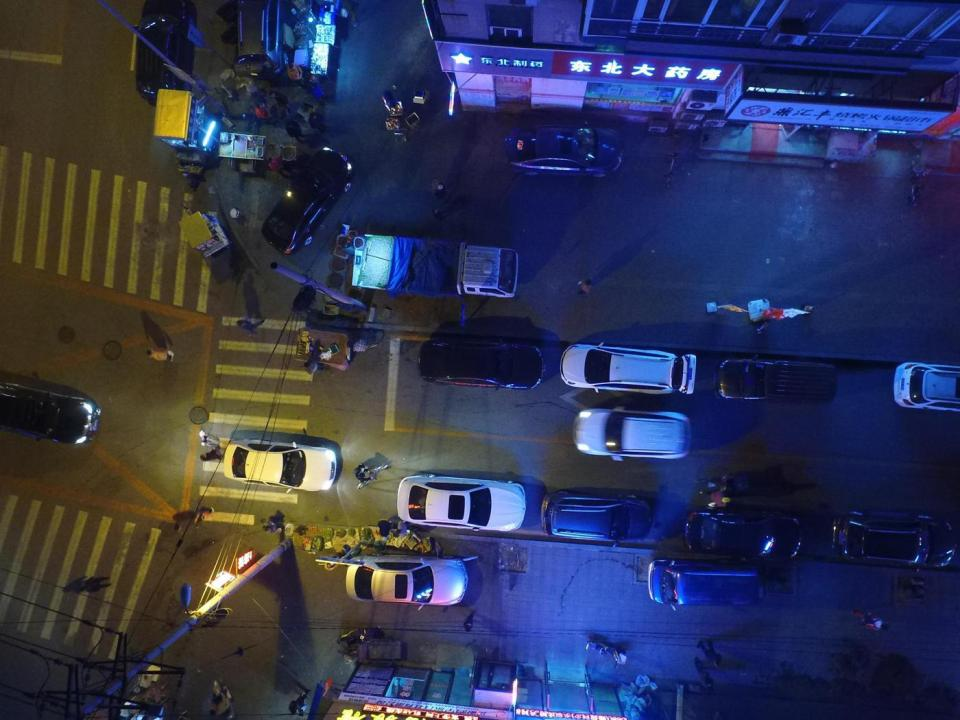car: (261, 145, 353, 256), (397, 472, 526, 531), (560, 344, 697, 397), (833, 510, 957, 567), (0, 372, 99, 442), (136, 0, 198, 106), (420, 339, 545, 391), (346, 554, 468, 606), (506, 122, 623, 176), (573, 407, 691, 460), (542, 490, 653, 546), (683, 507, 802, 559), (224, 439, 336, 490), (714, 358, 838, 400), (235, 0, 296, 76), (895, 363, 959, 411)
truck: (352, 233, 519, 301)
van: (646, 559, 762, 607)
